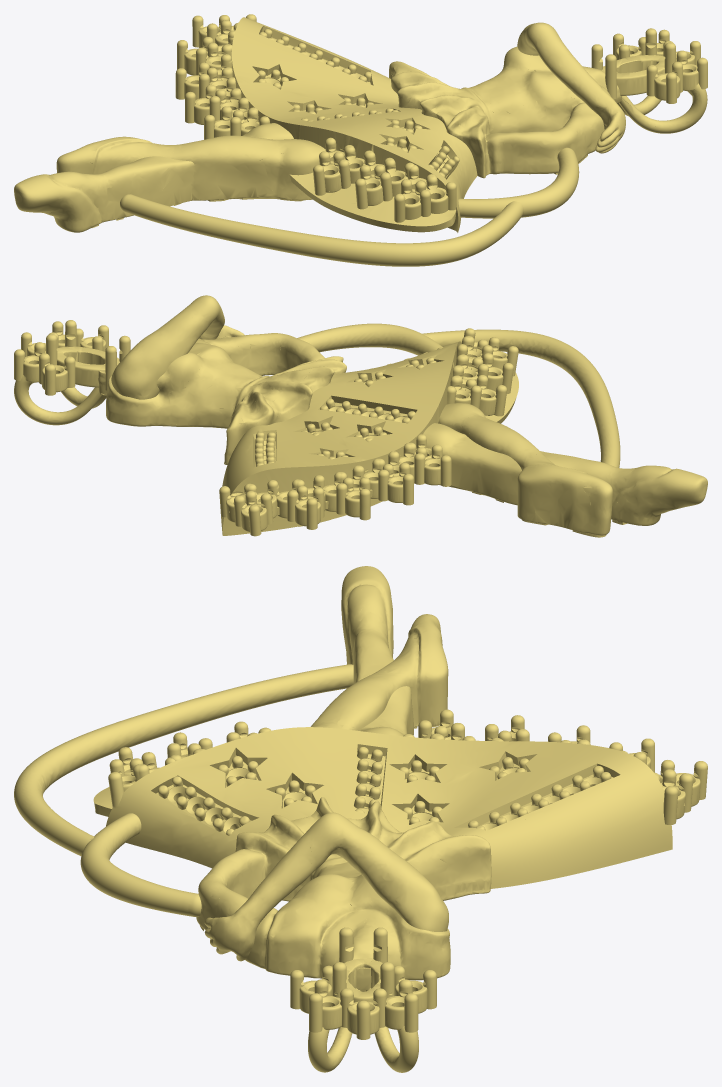
The model's file is kolyeler2-2_balerin.glb.
3 renders of one model, top to bottom at view 1: azimuth 30°, elevation 25°; view 2: azimuth 150°, elevation 25°; view 3: azimuth 270°, elevation 25°, orthographic. The views are drawn at different scales.
Parts seen in each view (by area): view 1: Renderer Node; view 2: Renderer Node; view 3: Renderer Node.
Part boxes in pixels (x1,y1,x2,y2): Renderer Node: [14, 14, 707, 266]; Renderer Node: [14, 295, 707, 537]; Renderer Node: [14, 566, 707, 1072].
Bounding box in the file's own units: 50.54 × 9.95 × 35.64.
